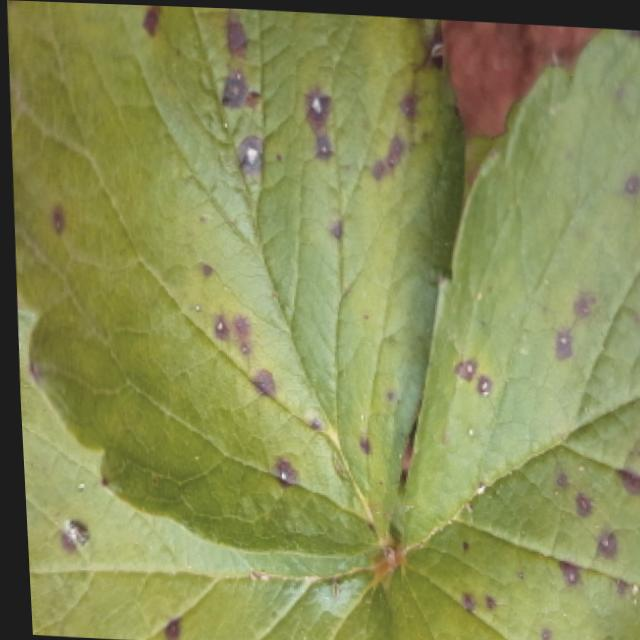Leaf Spot: (6, 0, 465, 552), (375, 22, 640, 640), (13, 313, 390, 640)
